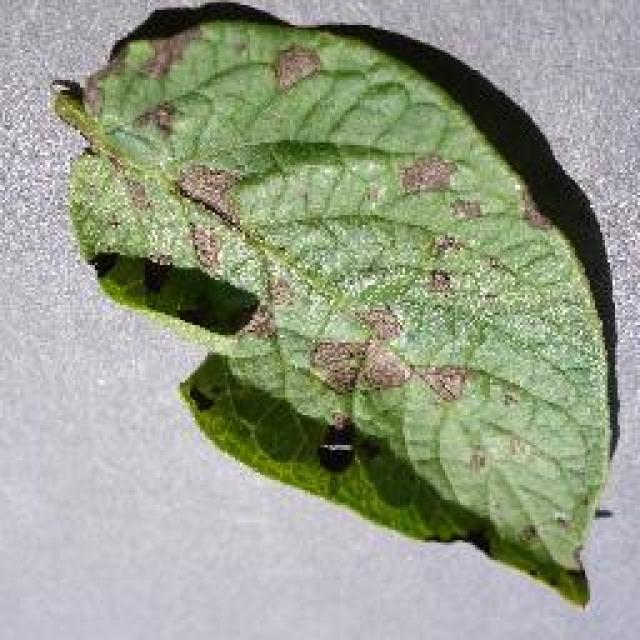Potato___Early_blight: (45, 14, 614, 614)
